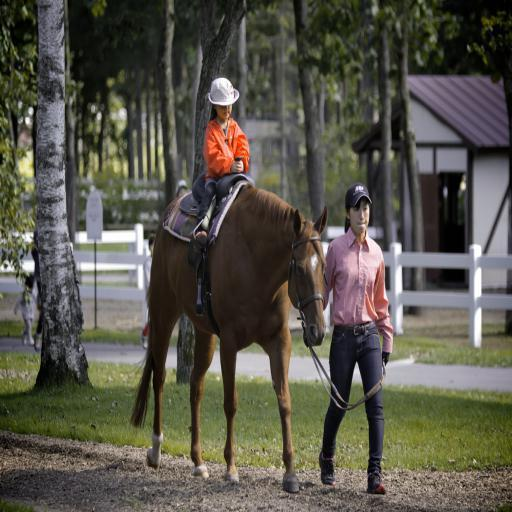horse: (129, 181, 329, 495)
